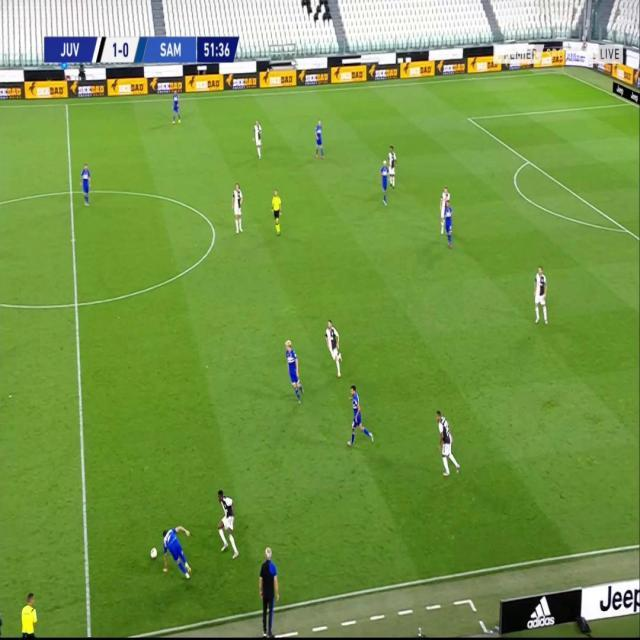ball: (151, 545, 158, 559)
player: (160, 522, 194, 580), (433, 408, 460, 478), (347, 384, 375, 449), (215, 487, 240, 559), (284, 337, 305, 404), (324, 317, 344, 378), (532, 262, 549, 326), (231, 179, 245, 233), (438, 183, 450, 237), (444, 196, 455, 251), (79, 162, 92, 207), (387, 144, 399, 189), (379, 158, 389, 207), (314, 117, 325, 159), (252, 118, 263, 160), (171, 88, 183, 124)
referee: (20, 590, 40, 639), (271, 188, 283, 236)
